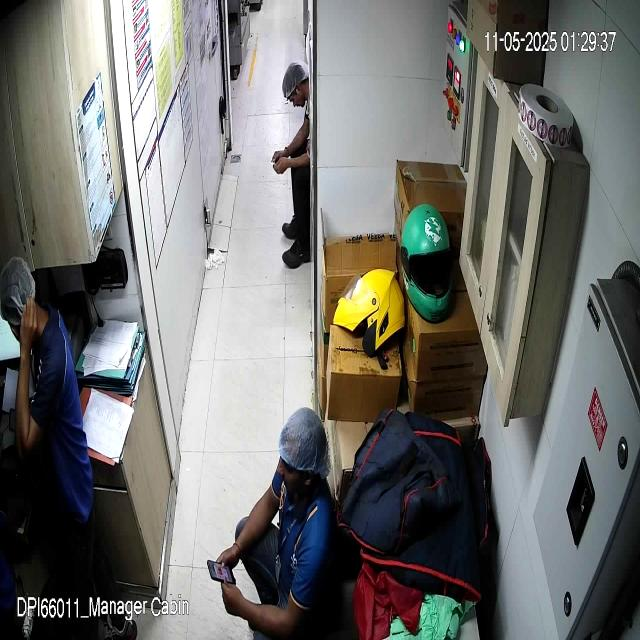helmet: (399, 203, 454, 323), (335, 268, 406, 354)
